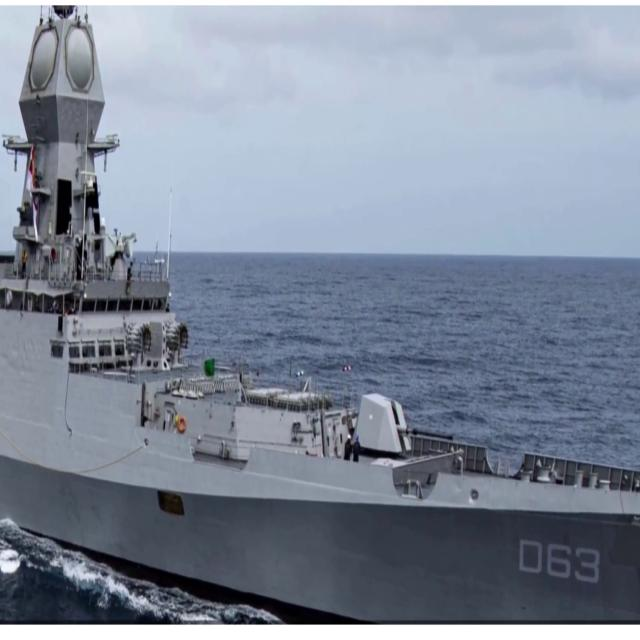OCR: (513, 530, 606, 592)
